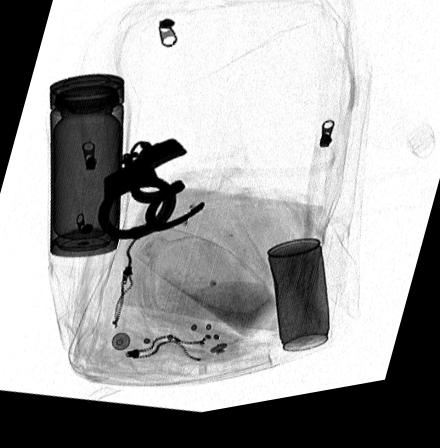HandCuffs: (98, 143, 207, 245)
